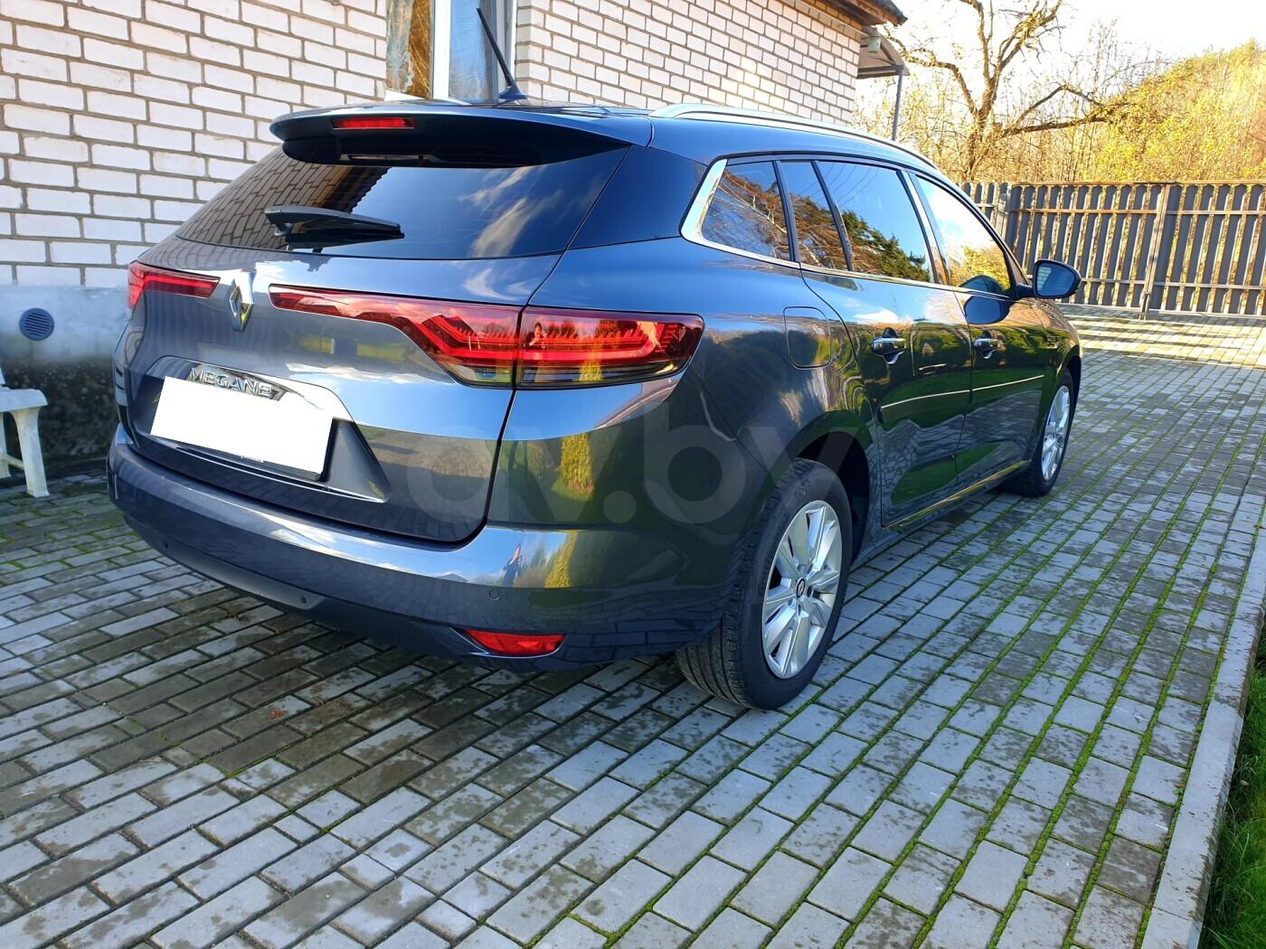Megane_2020: (105, 88, 1097, 718)
